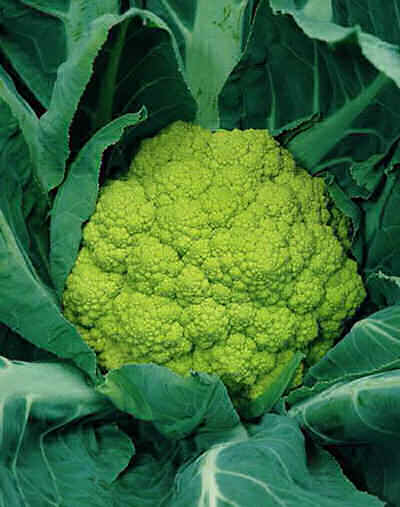cauliflower: (58, 121, 366, 409)
